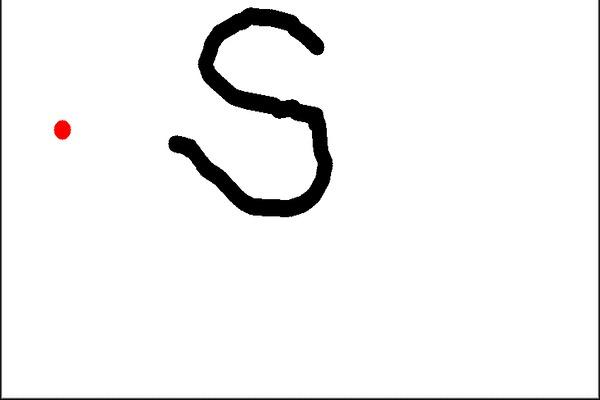S: (156, 2, 335, 223)
